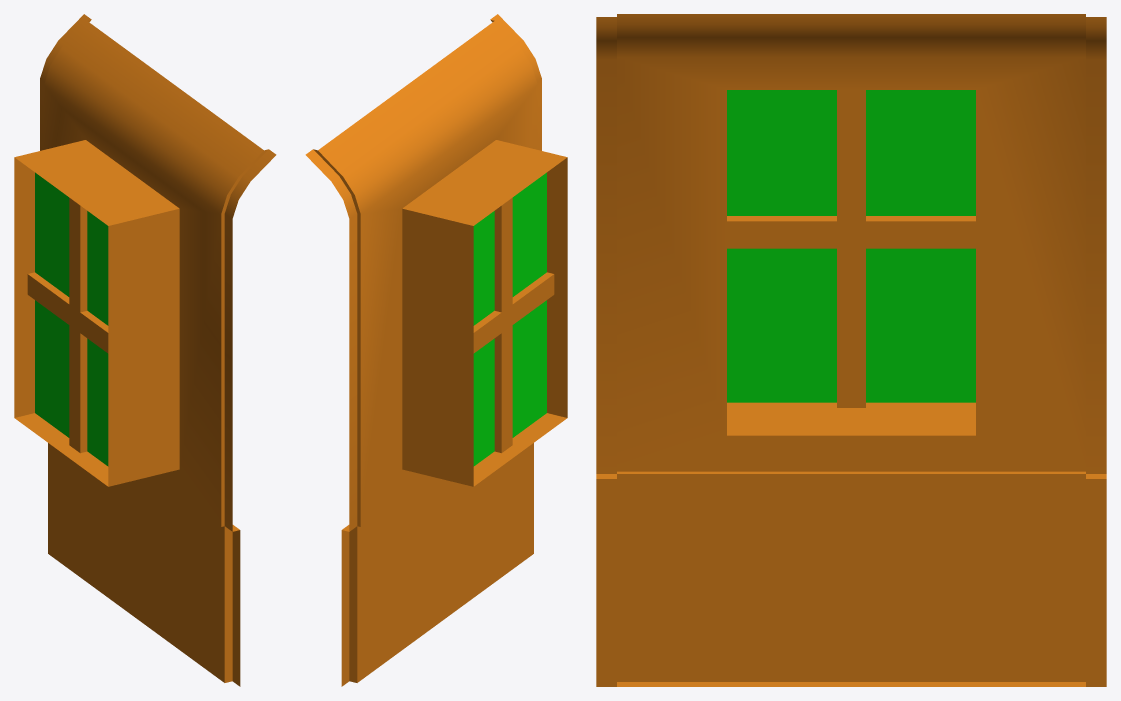
File: HotelMuurRaamSmoothShade.fbx
3 renders of one model, left to right at view 1: azimuth 30°, elevation 25°; view 2: azimuth 150°, elevation 25°; view 3: azimuth 270°, elevation 25°, orthographic. The views are drawn at different scales.
Parts seen in each view (by area): view 1: Cube.011; view 2: Cube.011; view 3: Cube.011.
Part boxes in pixels (x1,y1,x2,y2): Cube.011: (14, 14, 276, 686); Cube.011: (305, 14, 567, 686); Cube.011: (596, 14, 1106, 686).
Bounding box in the file's own units: 71.42 × 300 × 200.
